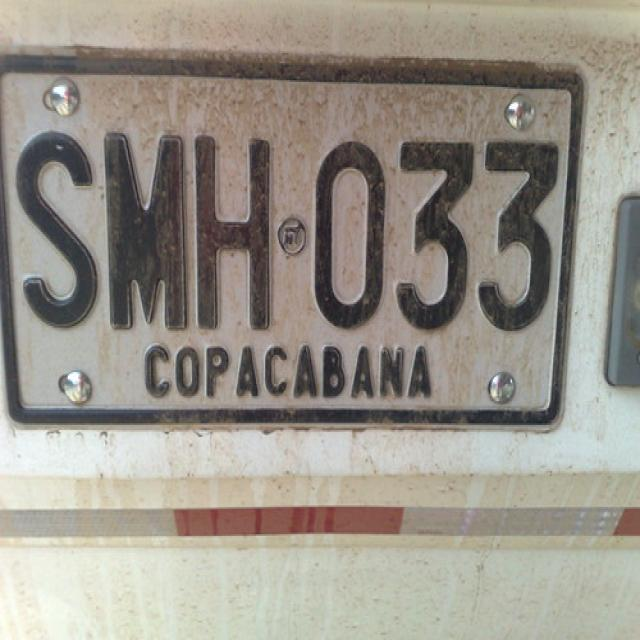placas: (8, 116, 567, 347)
